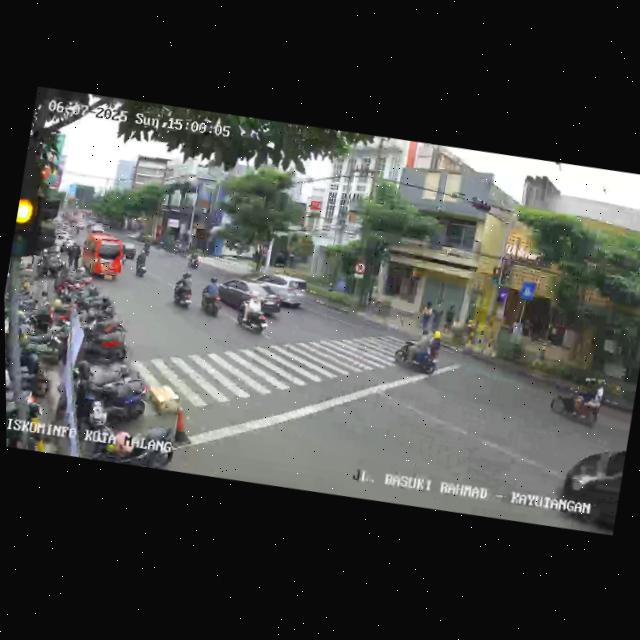car: (551, 438, 626, 535), (209, 272, 285, 322), (75, 229, 127, 284), (253, 268, 310, 312)
motorcycle: (544, 368, 609, 434), (393, 324, 444, 378), (232, 290, 273, 337), (197, 272, 227, 320), (168, 269, 197, 314), (133, 244, 152, 279), (188, 249, 203, 272)
person: (417, 301, 436, 338)
